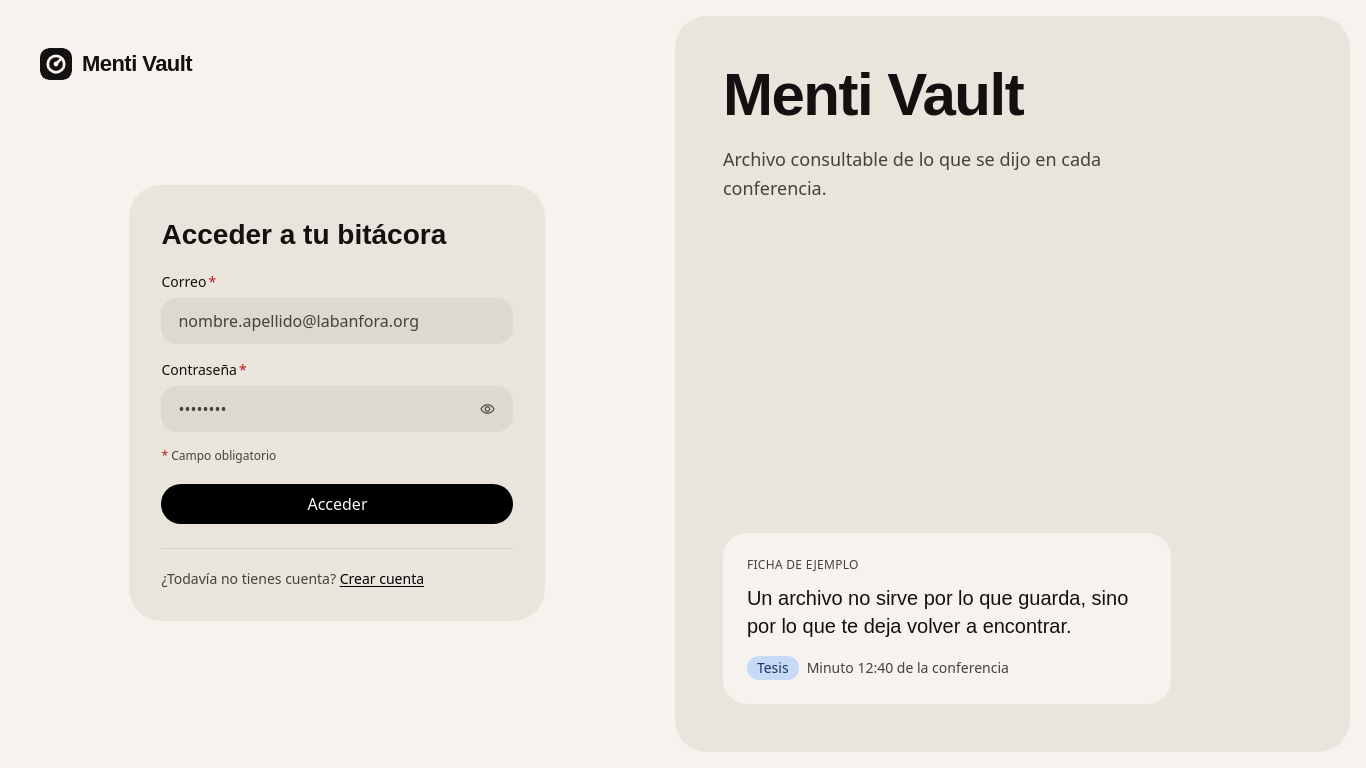
Test: PantallaAcceso › con credenciales incorrectas muestra el mensaje traducido de credenciales inválidas
The width and height of the screenshot is (1366, 768).
Type "valentina.alcantara@labanfora.org" into the field labelled "Correo" at (338, 321), box [162, 298, 514, 344]
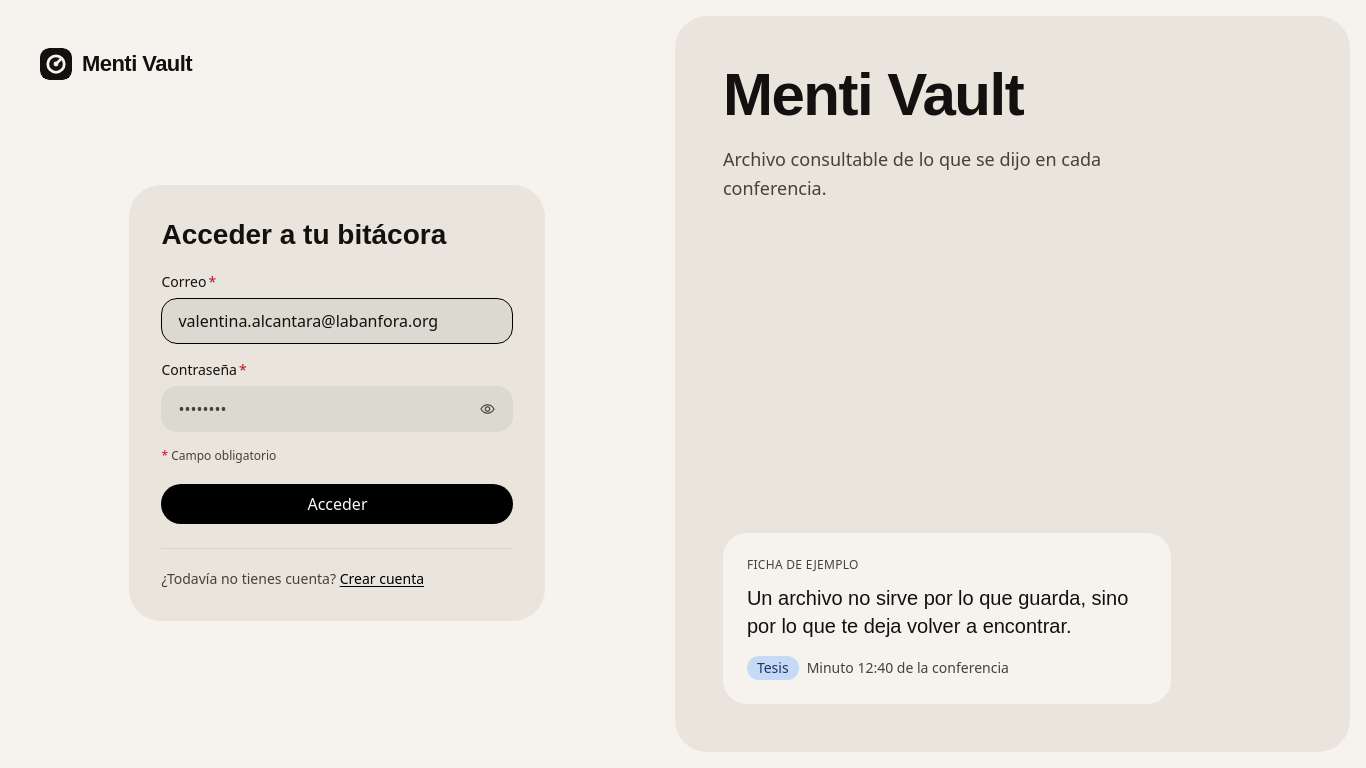
Type "contrasena-que-no-es" into the password field labelled "Contraseña" at (338, 409), box [162, 386, 514, 432]
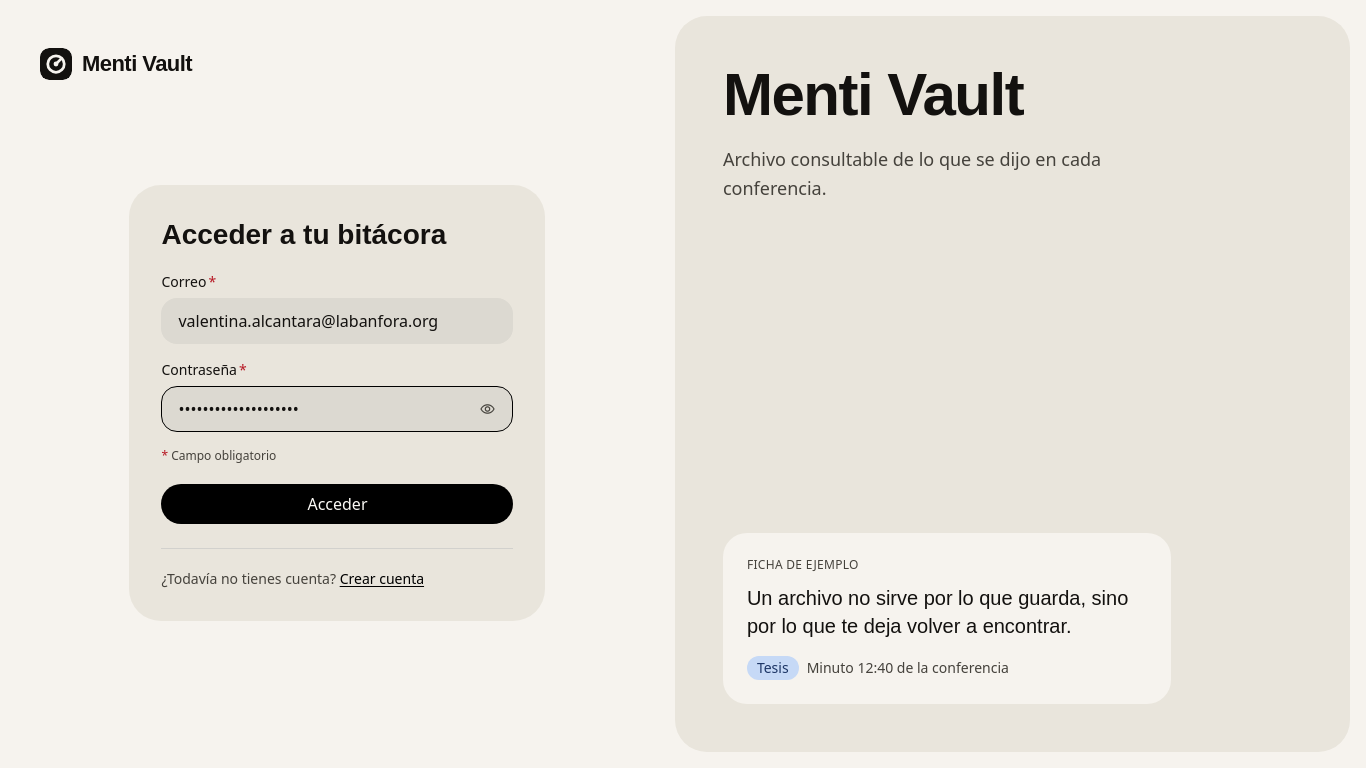
Click the button "Acceder" at (338, 504), box [162, 484, 514, 524]
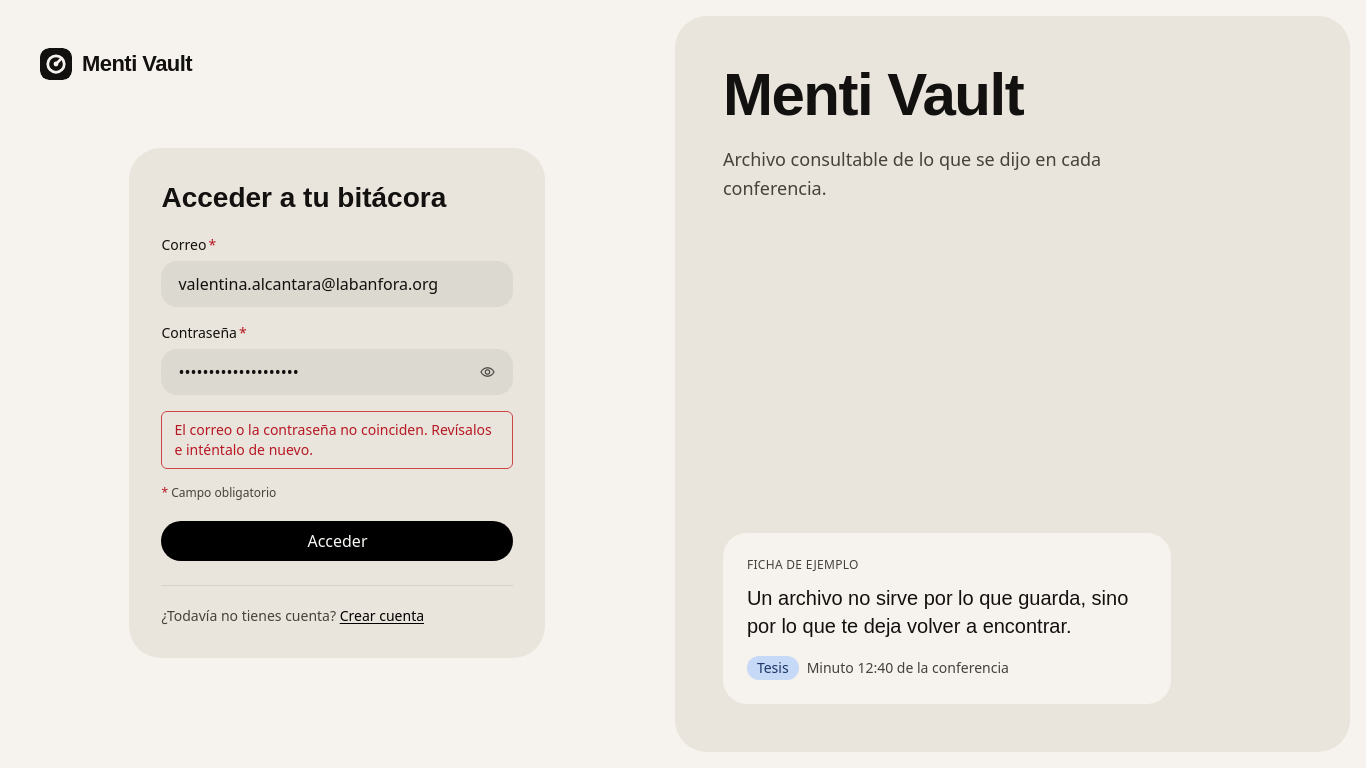
expect the message reads "El correo o la contraseña no coinciden. Revísalos e inténtalo de nuevo.": met, box [174, 420, 492, 459]
